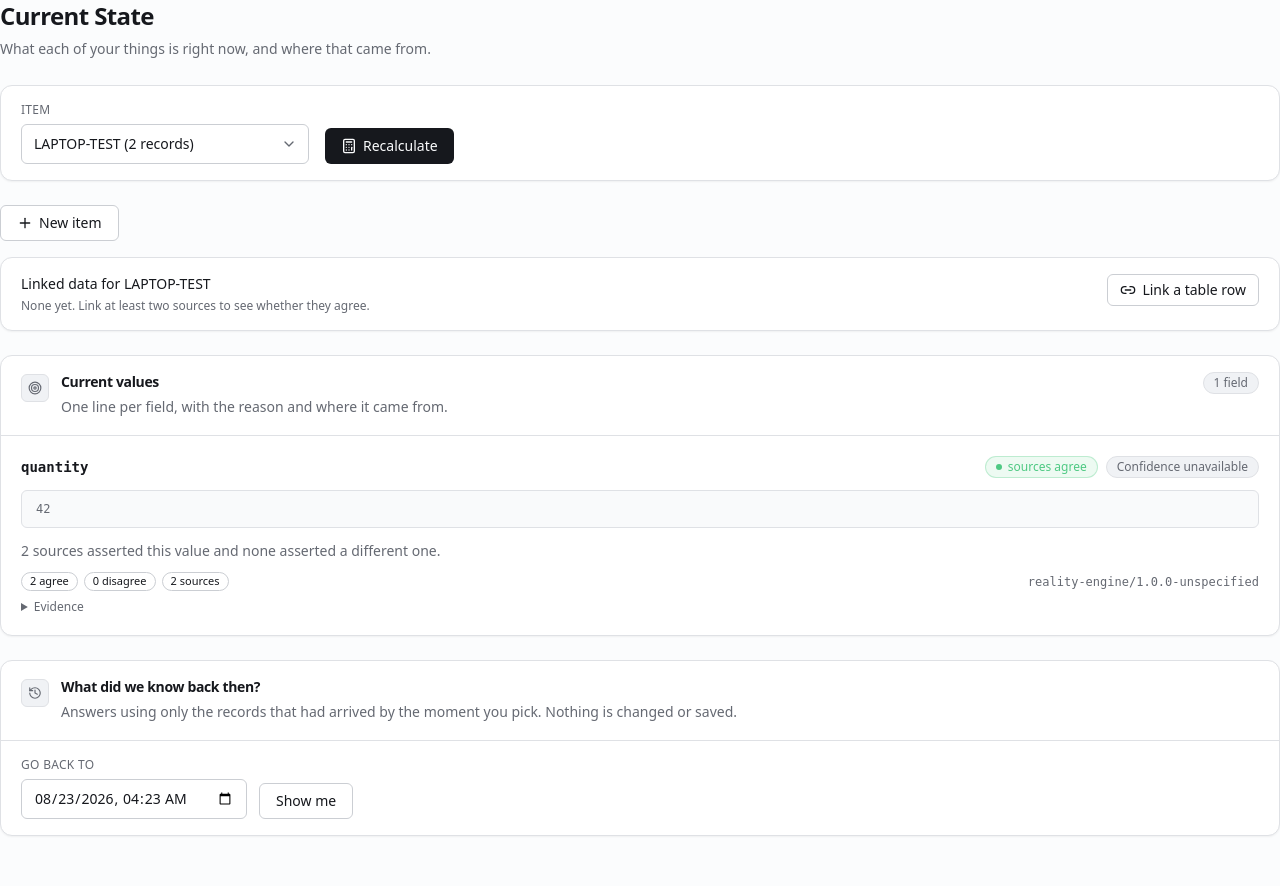
Reality page › explains a state through its evidence, with both timestamps
Expected: the dropdown labelled "Item" is shown, [21,124,309,164]
Click the heading "Evidence": click(59, 606) [34,598,84,615]
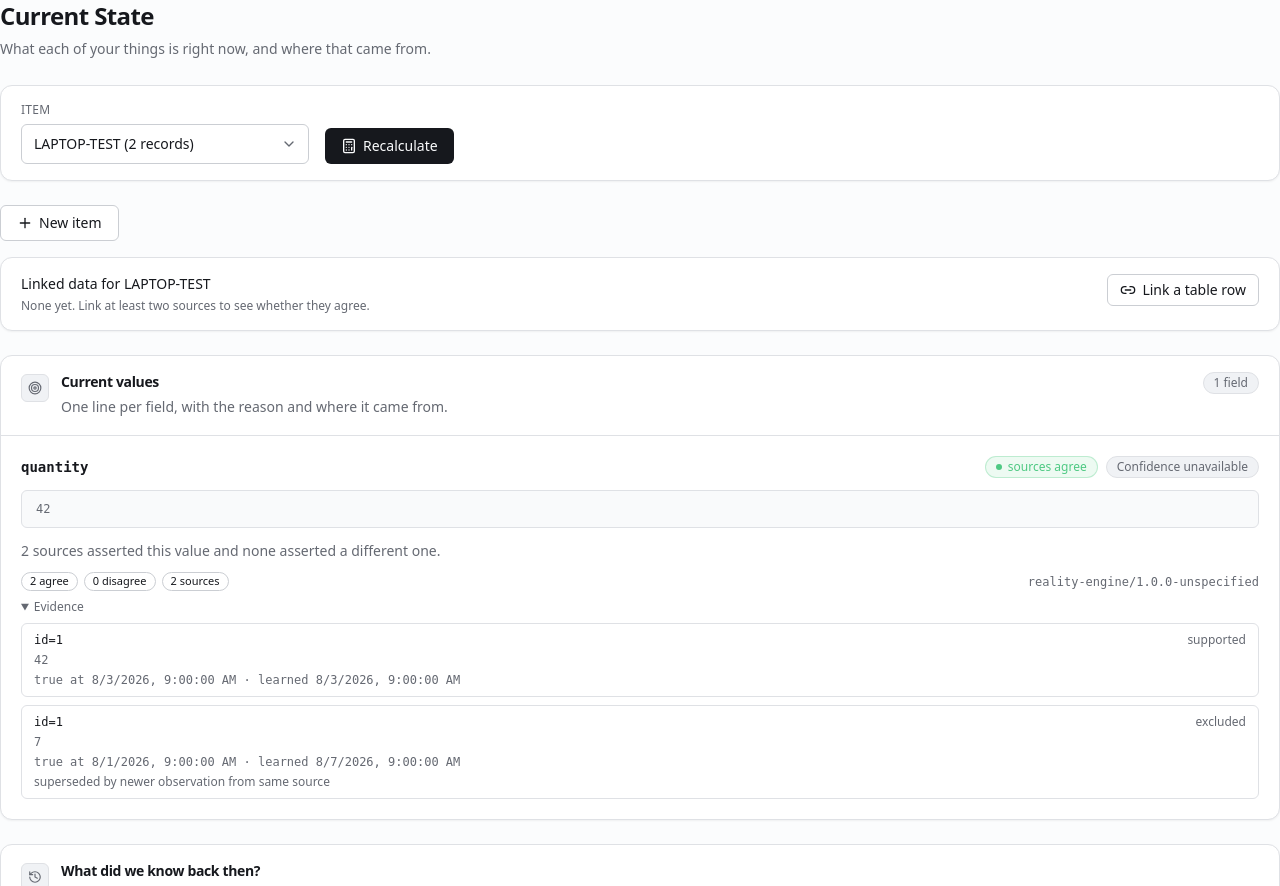
Now the text "supported" is shown, box [1187,632,1246,648]
Now the text "excluded" is shown, box [1196,714,1246,730]
Now the text "superseded by newer observation from same source" is shown, box [34,773,330,790]
